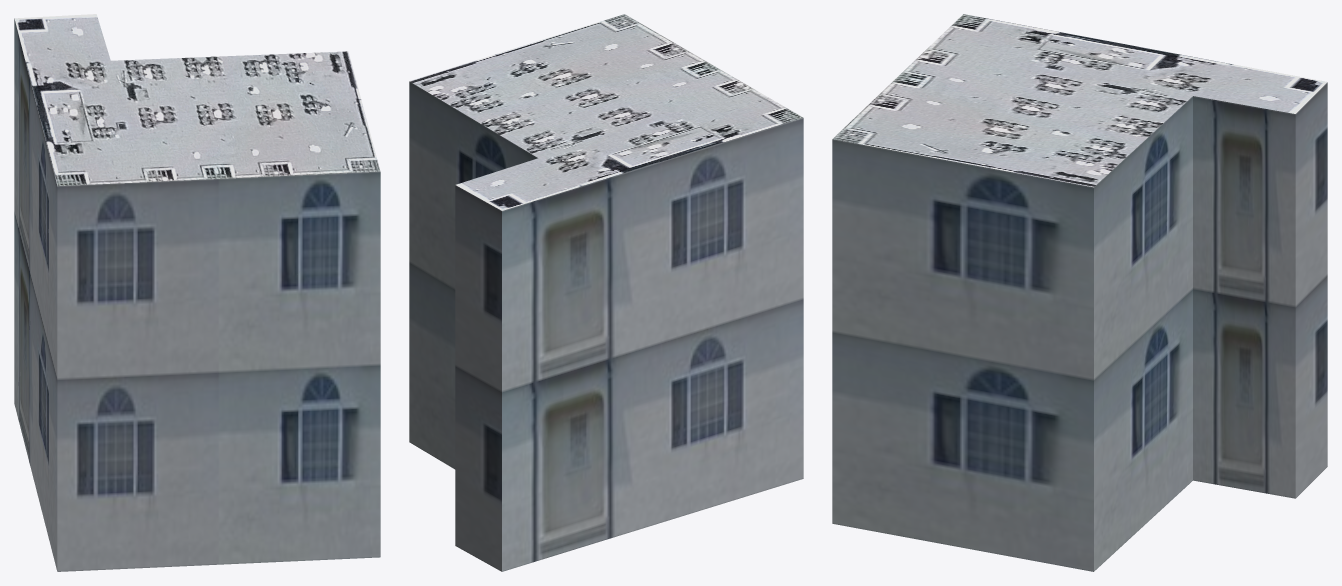
File: ResTex__5025.fbx
The picture shows the model from 3 angles, left to right: view 1: azimuth 30°, elevation 25°; view 2: azimuth 150°, elevation 25°; view 3: azimuth 270°, elevation 25°; orthographic projection. The views are drawn at different scales.
Parts seen in each view (by area): view 1: CityEngineMaterial_17_m, CityEngineMaterial_m; view 2: CityEngineMaterial_17_m, CityEngineMaterial_m; view 3: CityEngineMaterial_17_m, CityEngineMaterial_m.
Part boxes in pixels (x1,y1,x2,y2): CityEngineMaterial_17_m: (14, 18, 380, 571); CityEngineMaterial_m: (14, 14, 380, 186); CityEngineMaterial_17_m: (409, 81, 803, 571); CityEngineMaterial_m: (409, 14, 803, 210); CityEngineMaterial_17_m: (832, 82, 1327, 571); CityEngineMaterial_m: (832, 14, 1327, 187).
Size of the model in its own units: 5.8 by 6 by 7.01.
Materials: 2 (2 with a texture image).
